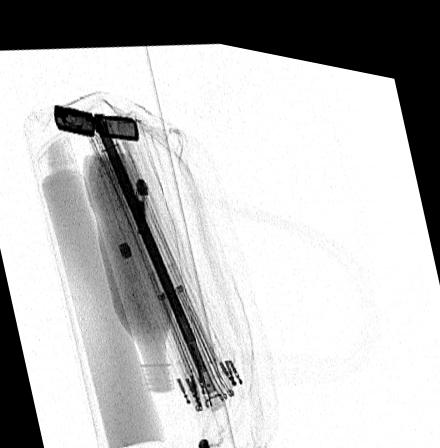Lighter: (53, 101, 139, 135)
